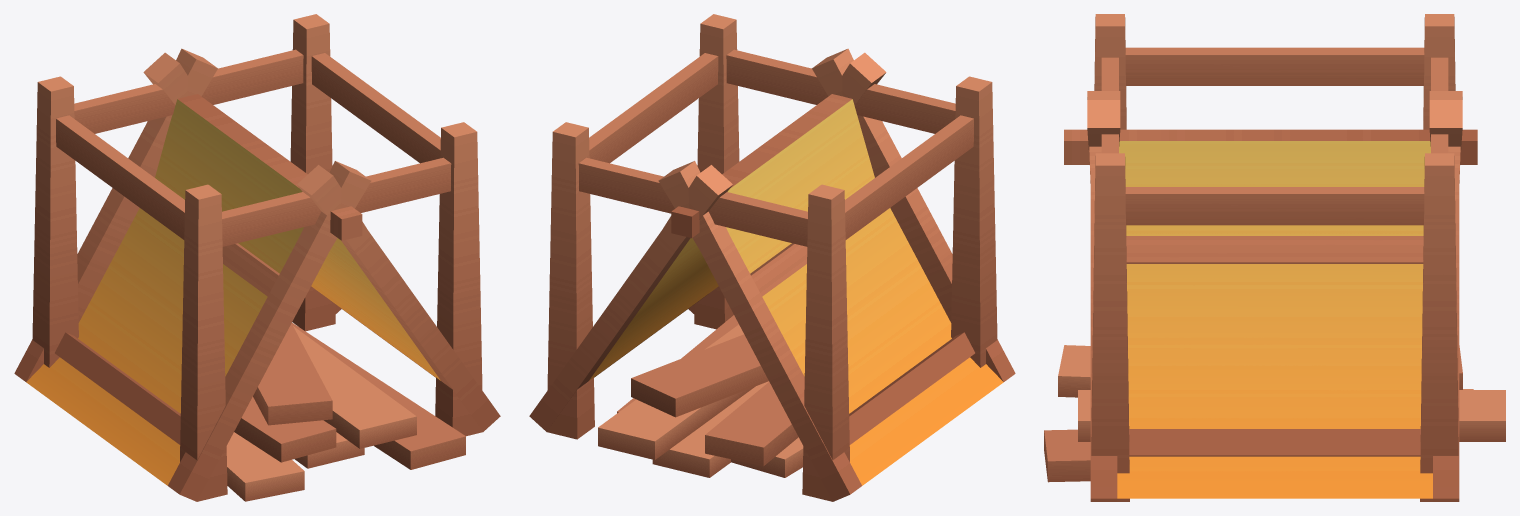
File: growth.glb
3 renders of one model, left to right at view 1: azimuth 30°, elevation 25°; view 2: azimuth 150°, elevation 25°; view 3: azimuth 270°, elevation 25°, orthographic. The views are drawn at different scales.
Visible parts, largest first — view 1: tent-canvas, structure, resource-planks; view 2: tent-canvas, structure, resource-planks; view 3: tent-canvas, structure, resource-planks.
Part boxes in pixels (<box>): tent-canvas: <box>14,48,500,501</box>; structure: <box>32,14,482,501</box>; resource-planks: <box>226,323,465,501</box>; tent-canvas: <box>529,48,1015,501</box>; structure: <box>547,14,997,501</box>; resource-planks: <box>598,315,803,477</box>; tent-canvas: <box>1064,91,1477,501</box>; structure: <box>1091,14,1458,501</box>; resource-planks: <box>1044,345,1505,482</box>.
Bounding box in the file's own units: 0.5608 × 0.5 × 0.626.
1 material, 1 textured.
